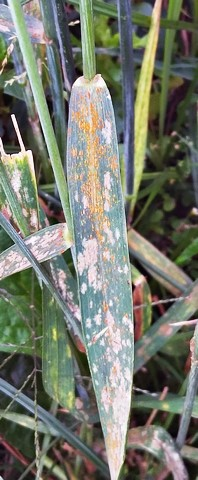Leaf Rust: (63, 91, 130, 241)
